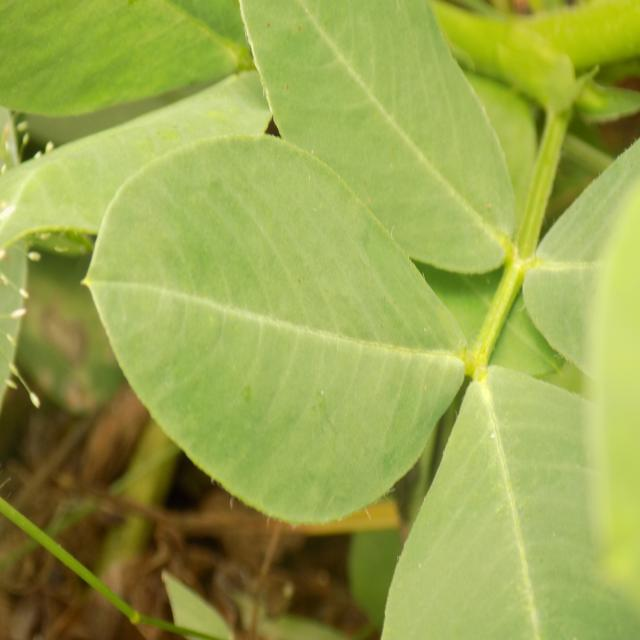Ground nut_healthy: (85, 136, 471, 524)
